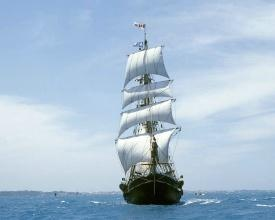fanchuan: (115, 18, 184, 207)
